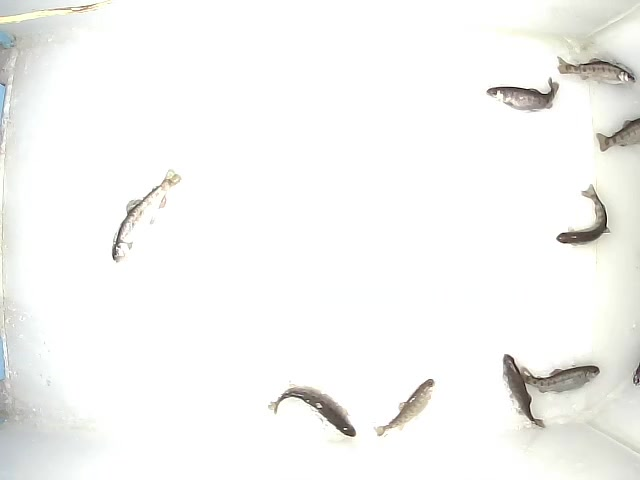fish: (112, 166, 182, 263), (267, 385, 359, 437), (500, 351, 550, 433), (374, 373, 436, 438), (554, 184, 613, 245), (515, 361, 601, 396), (485, 75, 561, 114), (556, 55, 637, 90)
